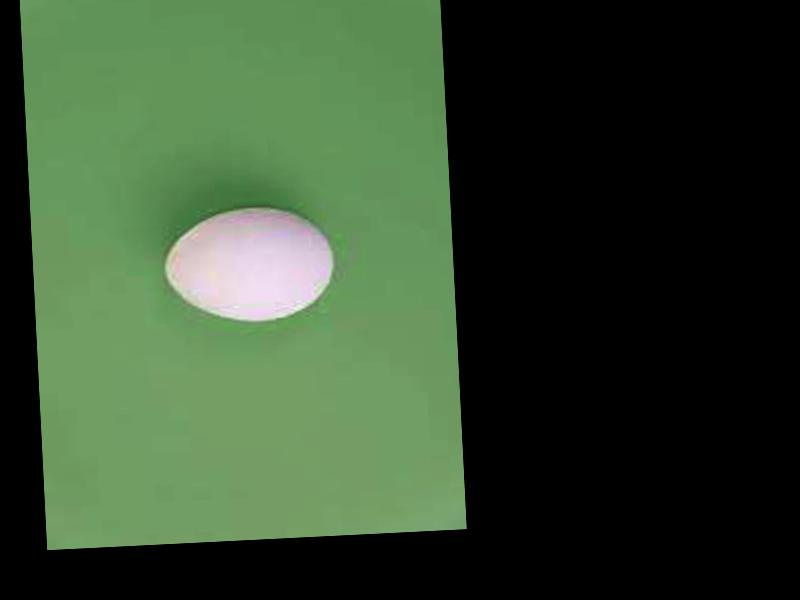Eggs: (162, 202, 338, 325)
